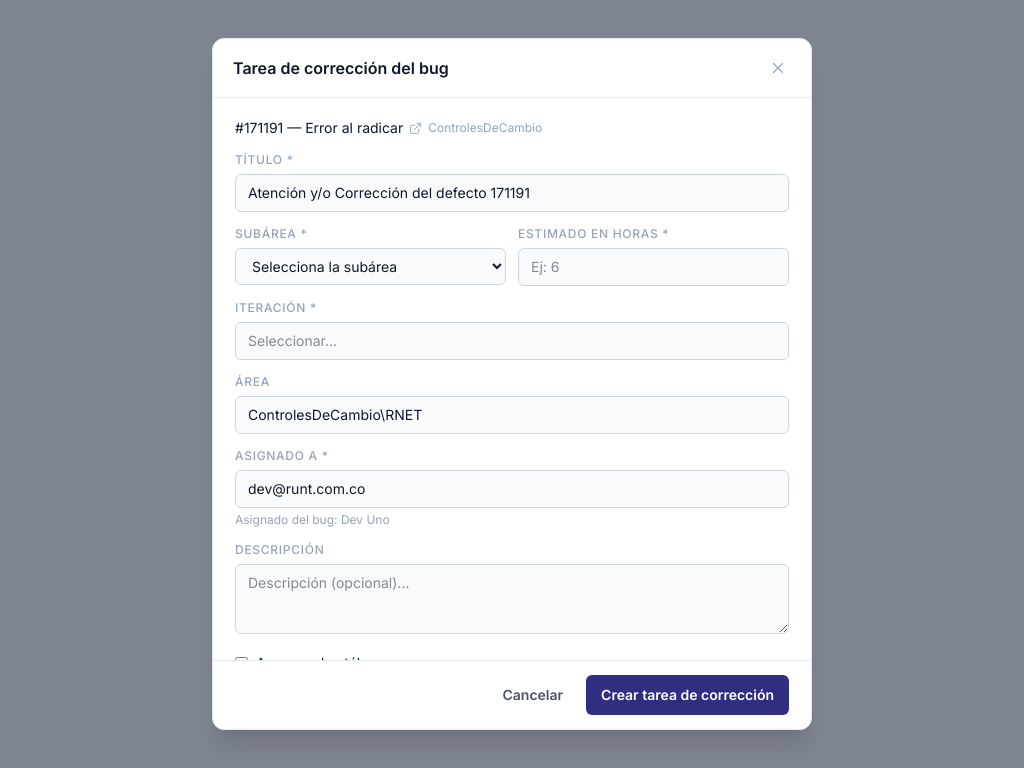
Scenario: CreateBugCorrectionTaskModal › uses tree pickers for iteration and area loaded from the bug team project
Click the dropdown named "Área": [512, 415] box [235,396,789,434]
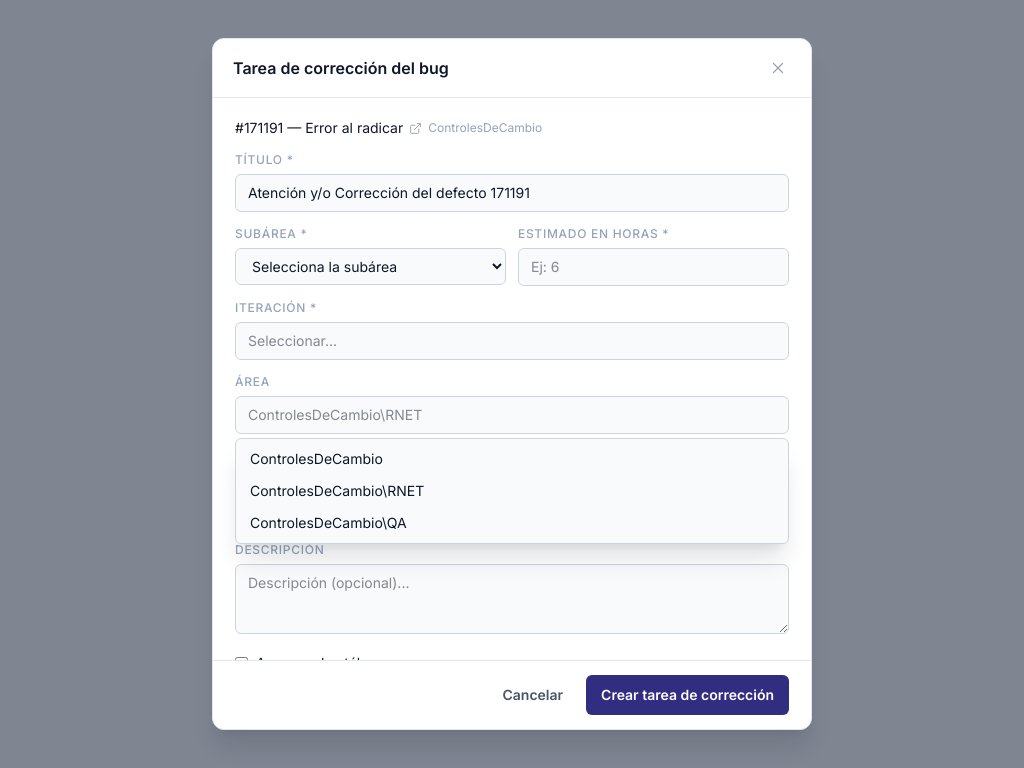
Click the option "ControlesDeCambio\\QA": [328, 523] box [250,514,407,531]
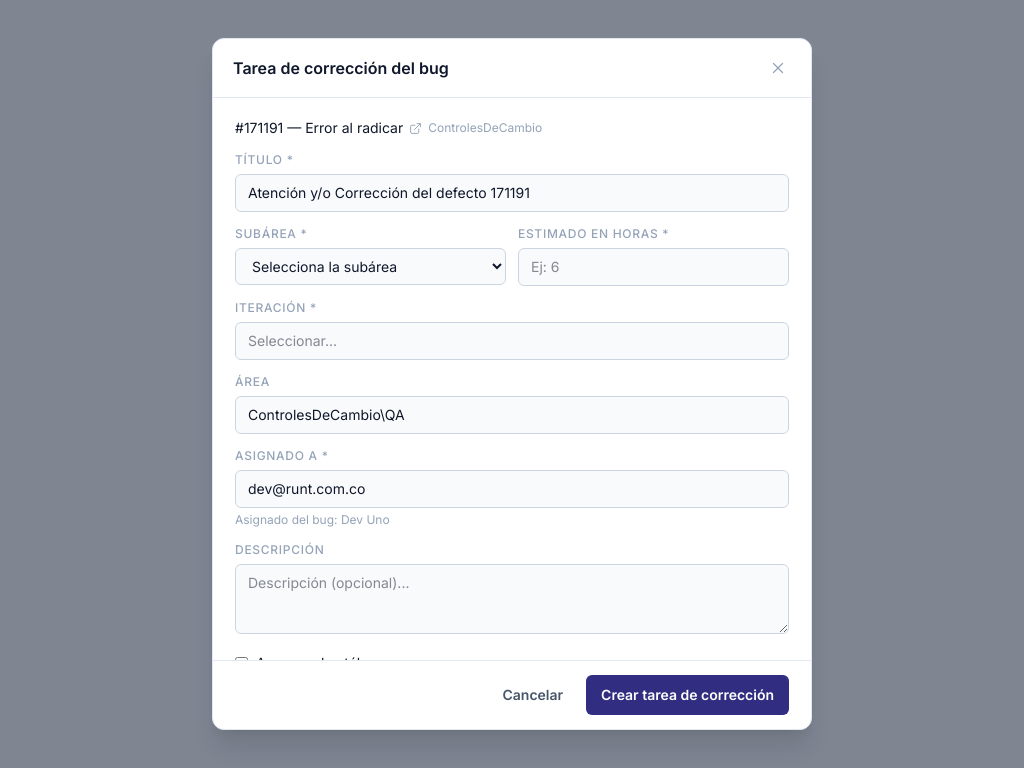
expect the dropdown named "Área" holds "ControlesDeCambio\\QA": met, box [235,396,789,434]
